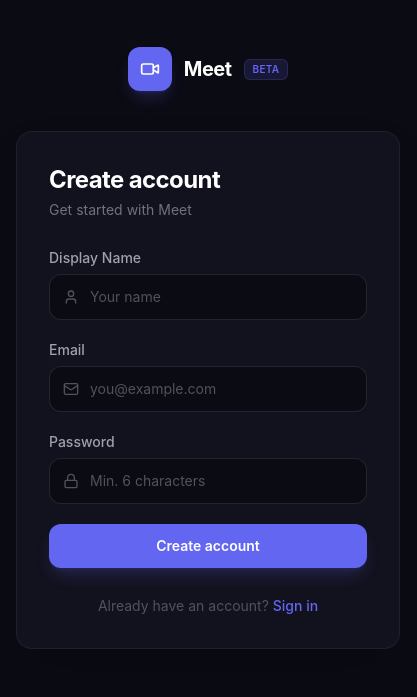
Test: Register › shows network error on exception
This screenshot has width=417, height=697.
Type "Bob" into the field with placeholder "Your name". click: (208, 297)
box: [49,274,367,320]
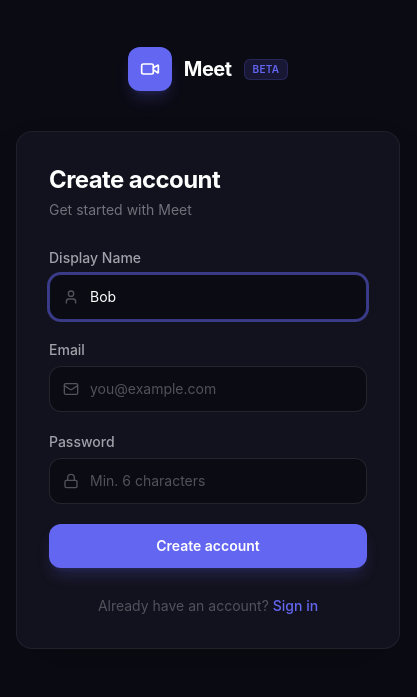
Type "b@c.com" into the field with placeholder "you@example.com". click: (208, 389)
box: [49,366,367,412]
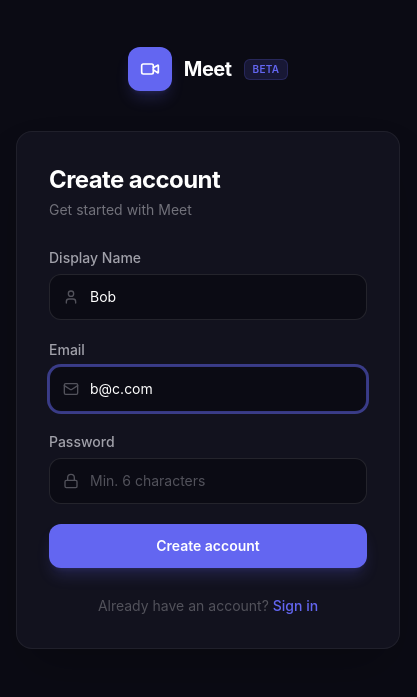
Type "password123" into the password field with placeholder "Min. 6 characters". click: (208, 481)
box: [49,458,367,504]
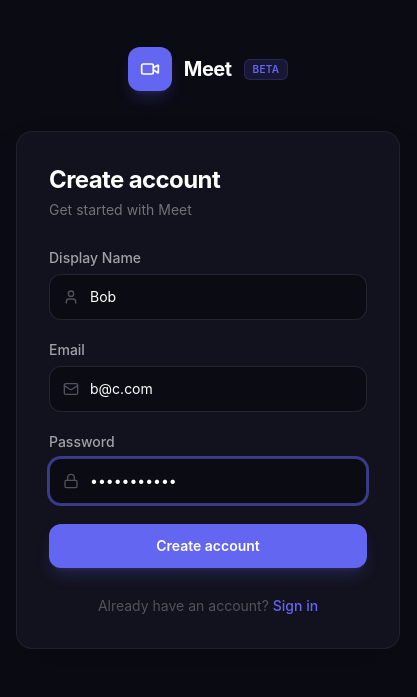
Click the button "Create account". click: click(208, 546)
box: [49,524,367,568]
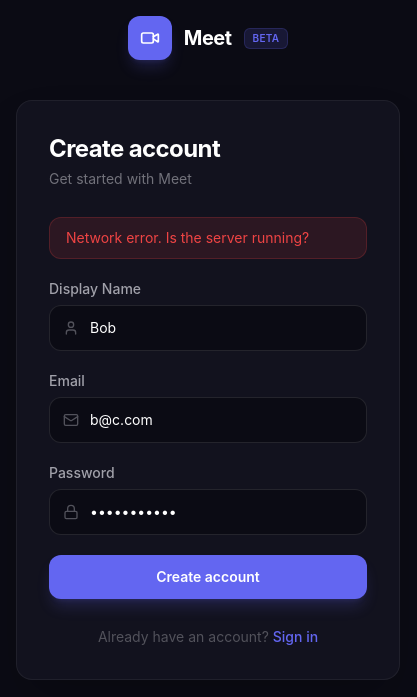
Now the text "Network error. Is the server running?" is shown, box [49,217,367,259]
